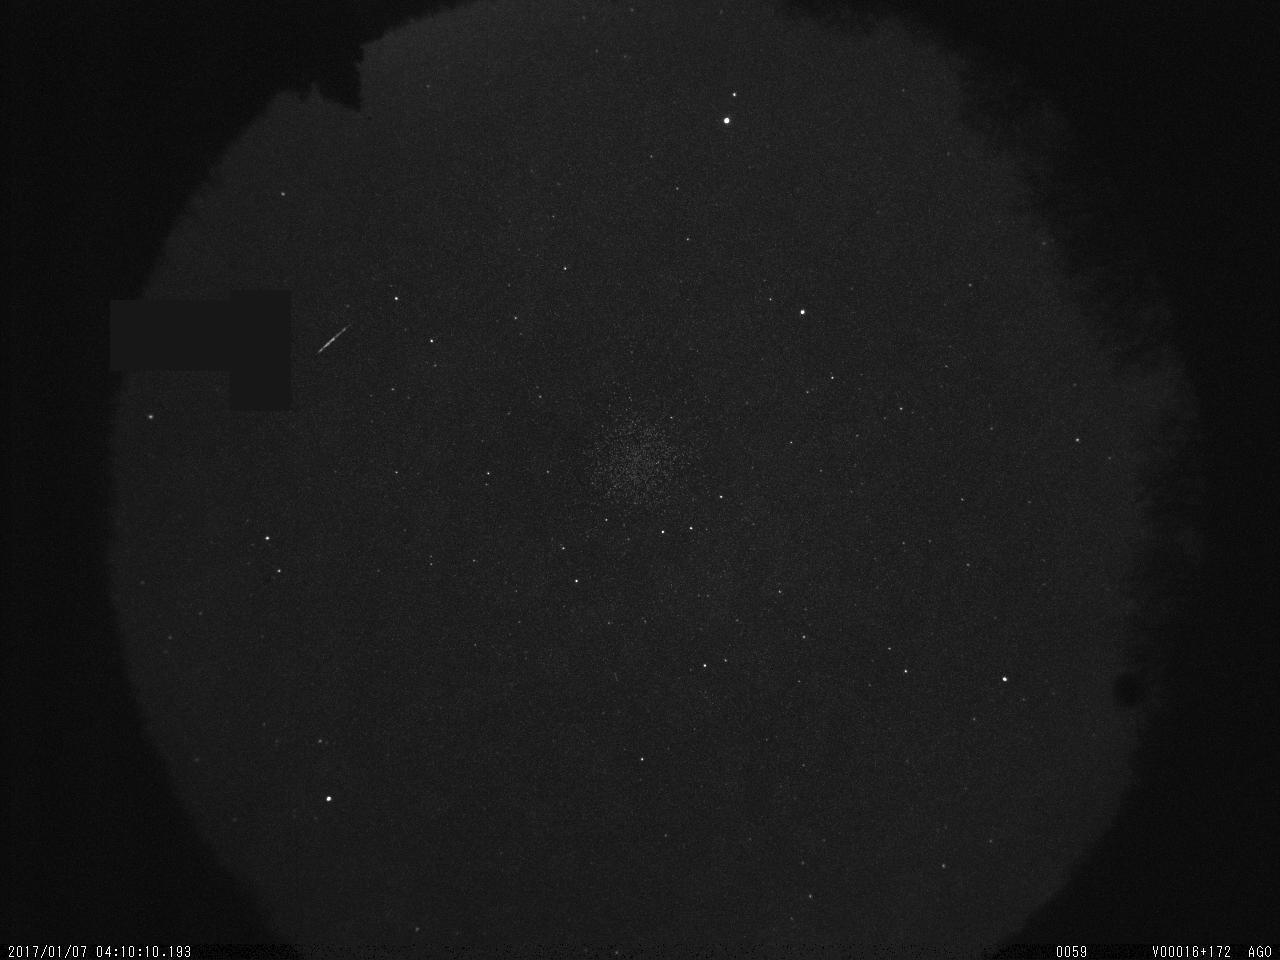Meteor: (314, 315, 362, 360)
